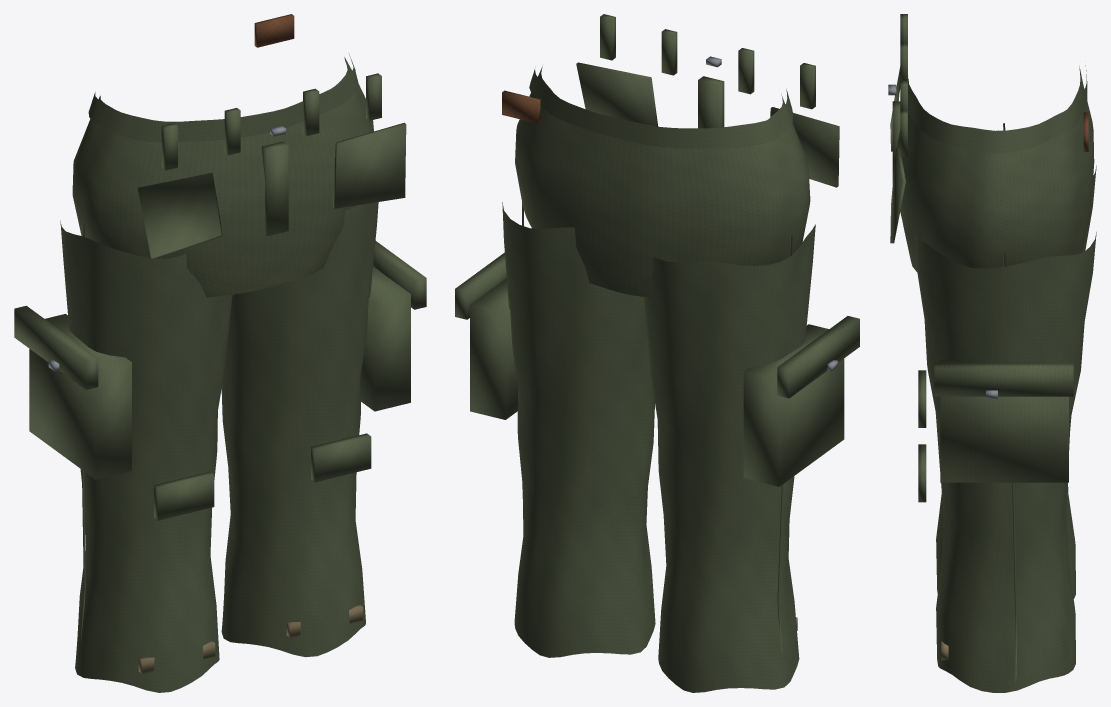
Rendered from PZ_Survivor_08_CargoPants_Olive.glb.
The picture shows the model from 3 angles, left to right: view 1: azimuth 30°, elevation 25°; view 2: azimuth 150°, elevation 25°; view 3: azimuth 270°, elevation 25°; orthographic projection. The views are drawn at different scales.
Parts seen in each view (by area): view 1: Trouser_Leg_L, Trouser_Leg_R, Waist_And_Seat_Fabric, Thigh_Cargo_Pocket_L, Thigh_Cargo_Pocket_R, Hip_Pocket_L, Hip_Pocket_R, Waistband_Double_Stitch, Thigh_Cargo_Flap_L, Fly_Zipper_Placket, Knee_Dart_L, Knee_Dart_R (+6 smaller); view 2: Trouser_Leg_L, Trouser_Leg_R, Waist_And_Seat_Fabric, Thigh_Cargo_Pocket_L, Waistband_Double_Stitch, Thigh_Cargo_Pocket_R, Hip_Pocket_R, Thigh_Cargo_Flap_L, Hip_Pocket_L, Thigh_Cargo_Flap_R, Fly_Zipper_Placket, Back_Maker_Patch (+4 smaller); view 3: Trouser_Leg_R, Waist_And_Seat_Fabric, Thigh_Cargo_Pocket_R, Thigh_Cargo_Flap_R, Waistband_Double_Stitch, Trouser_Leg_L, Hip_Pocket_R, Knee_Dart_R, Outer_Seam_R, Knee_Dart_L, Fly_Zipper_Placket, Belt_Loop_R_0.182.
Part boxes in pixels (x1=…): Trouser_Leg_L: x1=60, y1=220, x2=232, y2=692; Trouser_Leg_R: x1=221, y1=202, x2=378, y2=657; Waist_And_Seat_Fabric: x1=72, y1=57, x2=373, y2=297; Thigh_Cargo_Pocket_L: x1=29, y1=314, x2=131, y2=479; Thigh_Cargo_Pocket_R: x1=360, y1=266, x2=410, y2=411; Hip_Pocket_L: x1=137, y1=172, x2=222, y2=259; Hip_Pocket_R: x1=333, y1=122, x2=406, y2=208; Waistband_Double_Stitch: x1=88, y1=54, x2=358, y2=142; Thigh_Cargo_Flap_L: x1=14, y1=305, x2=98, y2=389; Fly_Zipper_Placket: x1=261, y1=141, x2=288, y2=236; Knee_Dart_L: x1=154, y1=471, x2=214, y2=520; Knee_Dart_R: x1=311, y1=433, x2=371, y2=482; Trouser_Leg_L: x1=643, y1=224, x2=815, y2=692; Trouser_Leg_R: x1=502, y1=202, x2=655, y2=657; Waist_And_Seat_Fabric: x1=515, y1=66, x2=810, y2=297; Thigh_Cargo_Pocket_L: x1=743, y1=324, x2=844, y2=486; Waistband_Double_Stitch: x1=529, y1=69, x2=793, y2=148; Thigh_Cargo_Pocket_R: x1=470, y1=278, x2=518, y2=419; Hip_Pocket_R: x1=576, y1=62, x2=658, y2=126; Thigh_Cargo_Flap_L: x1=777, y1=316, x2=859, y2=398; Hip_Pocket_L: x1=770, y1=107, x2=839, y2=187; Thigh_Cargo_Flap_R: x1=455, y1=252, x2=506, y2=319; Fly_Zipper_Placket: x1=698, y1=76, x2=724, y2=128; Back_Maker_Patch: x1=502, y1=90, x2=540, y2=123; Trouser_Leg_R: x1=915, y1=232, x2=1096, y2=692; Waist_And_Seat_Fabric: x1=897, y1=66, x2=1094, y2=271; Thigh_Cargo_Pocket_R: x1=940, y1=360, x2=1068, y2=482; Thigh_Cargo_Flap_R: x1=934, y1=363, x2=1073, y2=396; Waistband_Double_Stitch: x1=901, y1=65, x2=1087, y2=153; Trouser_Leg_L: x1=936, y1=165, x2=1096, y2=598; Hip_Pocket_R: x1=890, y1=147, x2=905, y2=243; Knee_Dart_R: x1=918, y1=444, x2=926, y2=502; Outer_Seam_R: x1=1003, y1=252, x2=1016, y2=681; Knee_Dart_L: x1=918, y1=370, x2=926, y2=427; Fly_Zipper_Placket: x1=892, y1=101, x2=900, y2=183; Belt_Loop_R_0.182: x1=900, y1=110, x2=907, y2=156.
Bounding box in the file's own units: 0.624 × 0.9935 × 0.3325.
Materials: 4 (4 with a texture image).
